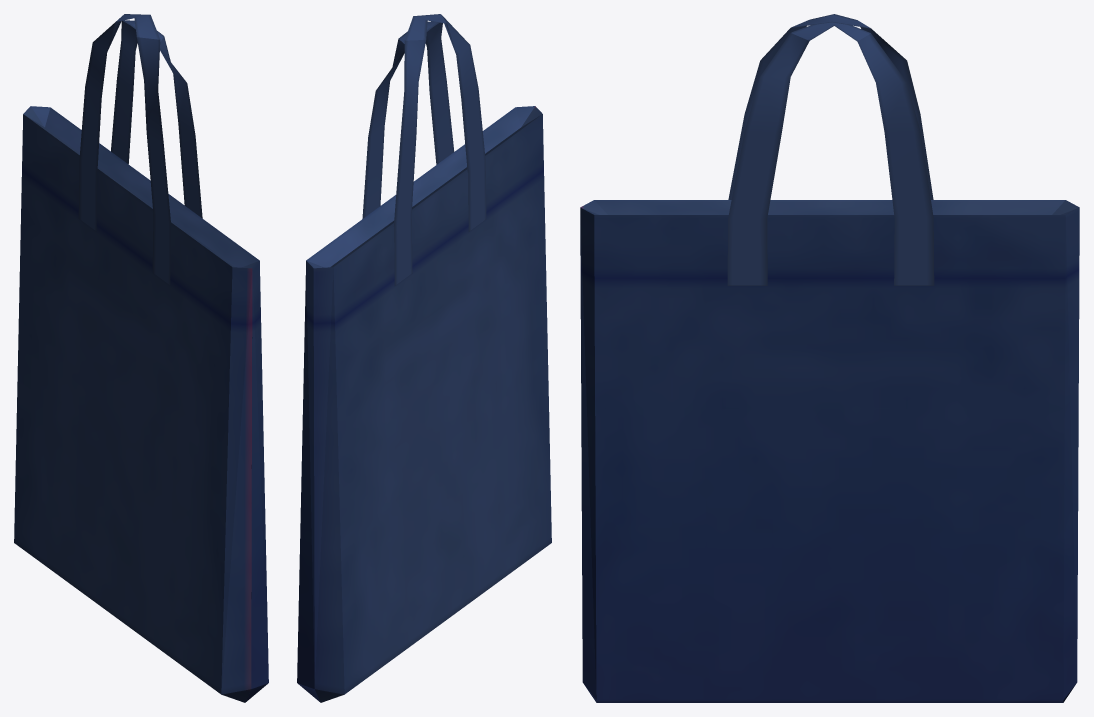
File: bag_typeB1_eve.FBX
The picture shows the model from 3 angles, left to right: view 1: azimuth 30°, elevation 25°; view 2: azimuth 150°, elevation 25°; view 3: azimuth 270°, elevation 25°; orthographic projection. The views are drawn at different scales.
Parts seen in each view (by area): view 1: bag_typeB1; view 2: bag_typeB1; view 3: bag_typeB1.
Boxes of the visible parts, left/top/right/bottom form: bag_typeB1: left=14, top=14, right=268, bottom=702; bag_typeB1: left=297, top=14, right=551, bottom=702; bag_typeB1: left=580, top=14, right=1079, bottom=702.
Size of the model in its own units: 3.46 by 42.36 by 27.94.
